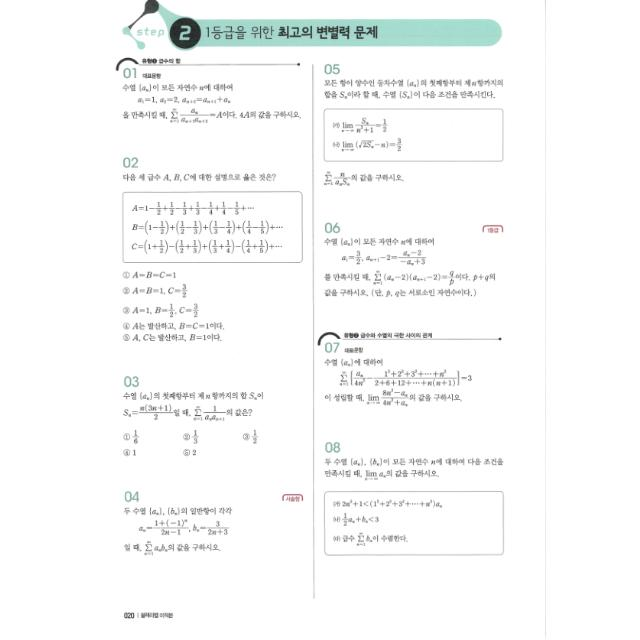multiple: (115, 150, 308, 348), (114, 365, 308, 463)
short: (317, 433, 521, 573), (316, 57, 510, 195), (314, 324, 516, 418), (101, 51, 306, 142), (316, 215, 514, 308), (114, 482, 310, 564)
